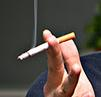smoke: (17, 32, 76, 61)
